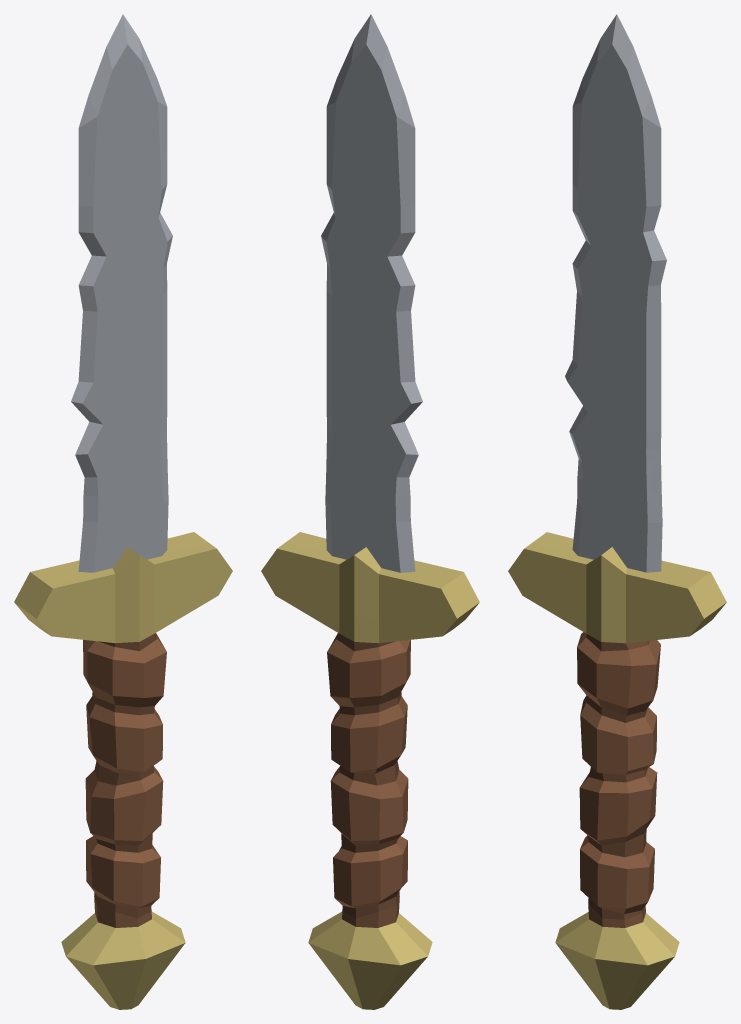
The model's file is knife_0001.glb.
3 views of the same model, side by side, from view 1: azimuth 30°, elevation 25°; view 2: azimuth 150°, elevation 25°; view 3: azimuth 330°, elevation 25° (orthographic).
Visible parts, largest first — view 1: Knife_0001; view 2: Knife_0001; view 3: Knife_0001.
Part boxes in pixels (<box>): Knife_0001: <box>14,14,232,1009</box>; Knife_0001: <box>261,14,479,1009</box>; Knife_0001: <box>508,14,726,1009</box>.
Size of the model in its own units: 0.644 by 3.11 by 0.2564.
